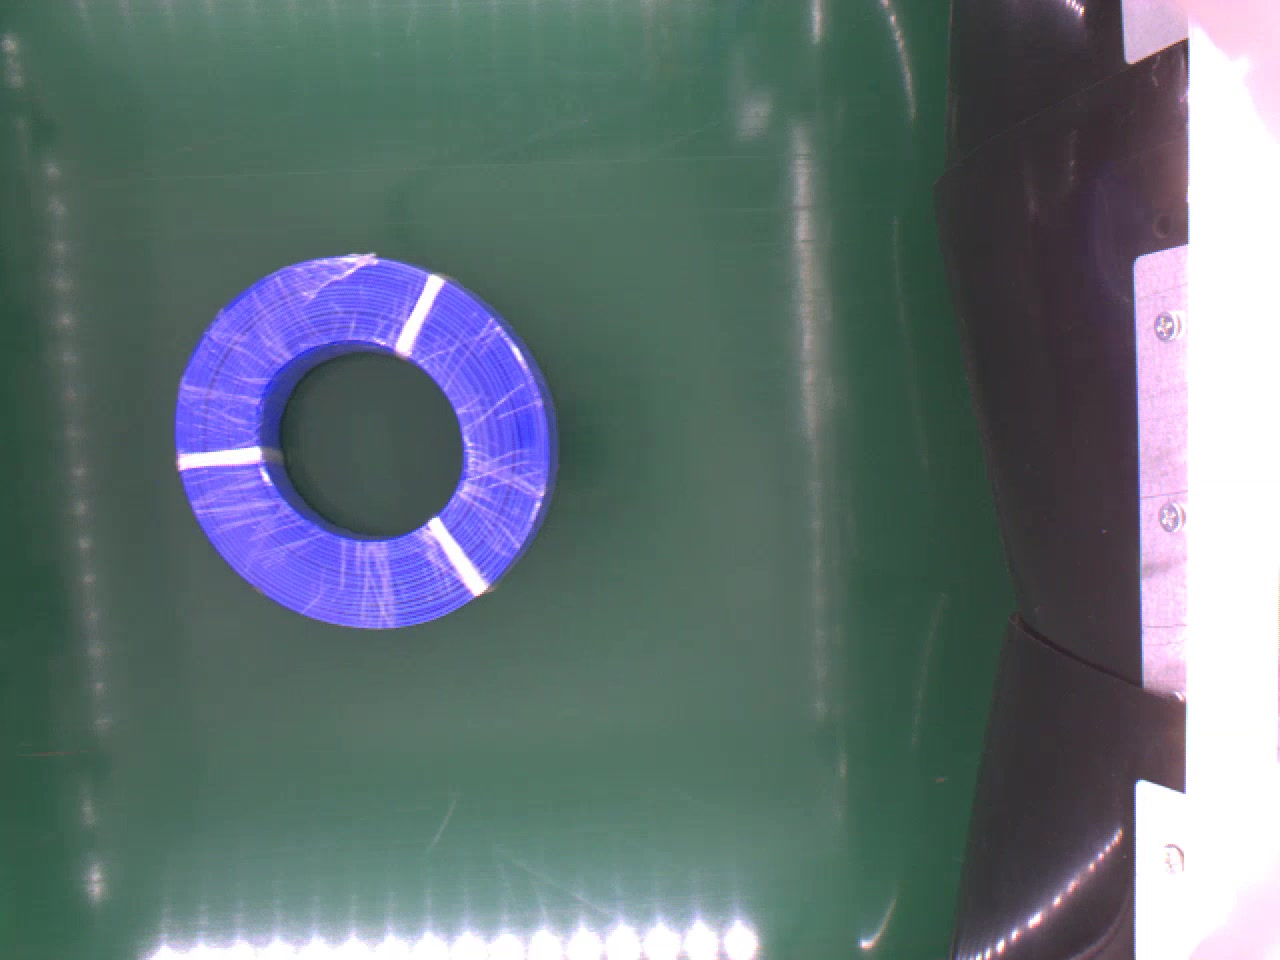blue: (171, 254, 551, 633)
